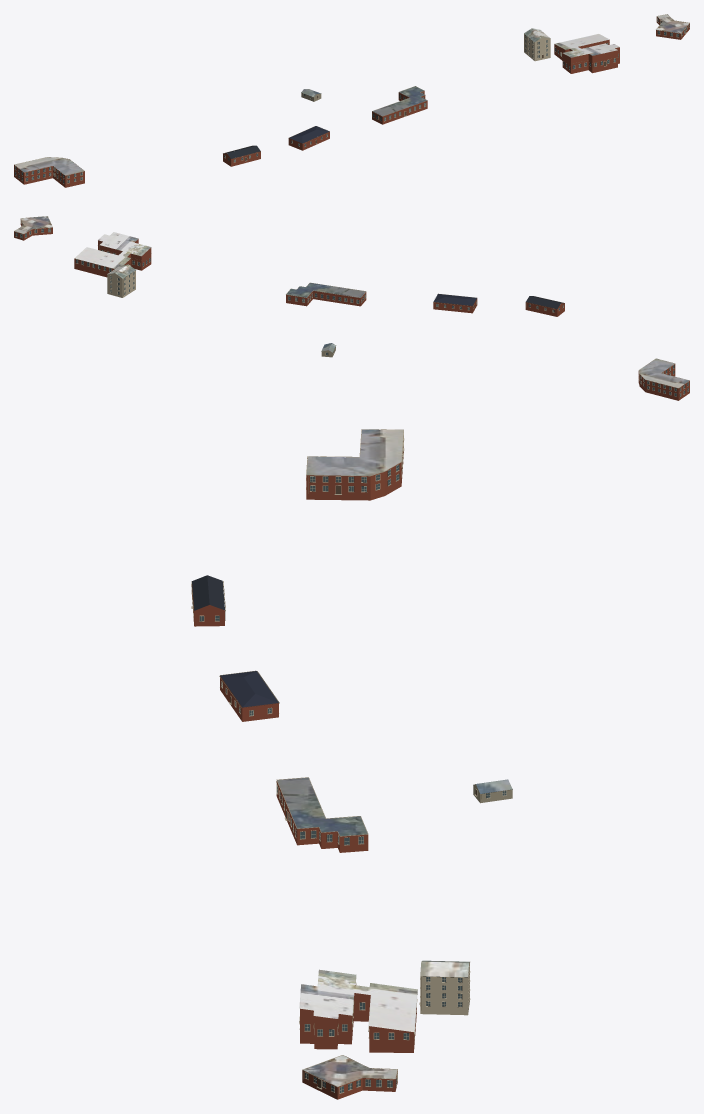
The picture shows the model from 3 angles, top to bottom: view 1: azimuth 30°, elevation 25°; view 2: azimuth 150°, elevation 25°; view 3: azimuth 270°, elevation 25°; orthographic projection. The views are drawn at different scales.
Visible parts, largest first — view 1: -4_-2_623907357_0, -4_-2_623907358_1, -4_-2_623908315_7; view 2: -4_-2_623907357_0, -4_-2_623907358_1, -4_-2_623908315_7; view 3: -4_-2_623907357_0, -4_-2_623907358_1, -4_-2_623908315_7.
Part boxes in pixels (x1=…): -4_-2_623907357_0: x1=14, y1=14, x2=689, y2=184; -4_-2_623907358_1: x1=14, y1=17, x2=689, y2=187; -4_-2_623908315_7: x1=223, y1=126, x2=329, y2=158; -4_-2_623907357_0: x1=14, y1=216, x2=689, y2=397; -4_-2_623907358_1: x1=14, y1=219, x2=689, y2=400; -4_-2_623908315_7: x1=433, y1=294, x2=564, y2=308; -4_-2_623907357_0: x1=191, y1=429, x2=512, y2=1095; -4_-2_623907358_1: x1=192, y1=441, x2=416, y2=1099; -4_-2_623908315_7: x1=192, y1=575, x2=278, y2=707.
Bounding box in the file's own units: 459 × 23.58 × 96.87.
13 materials, 1 textured.
